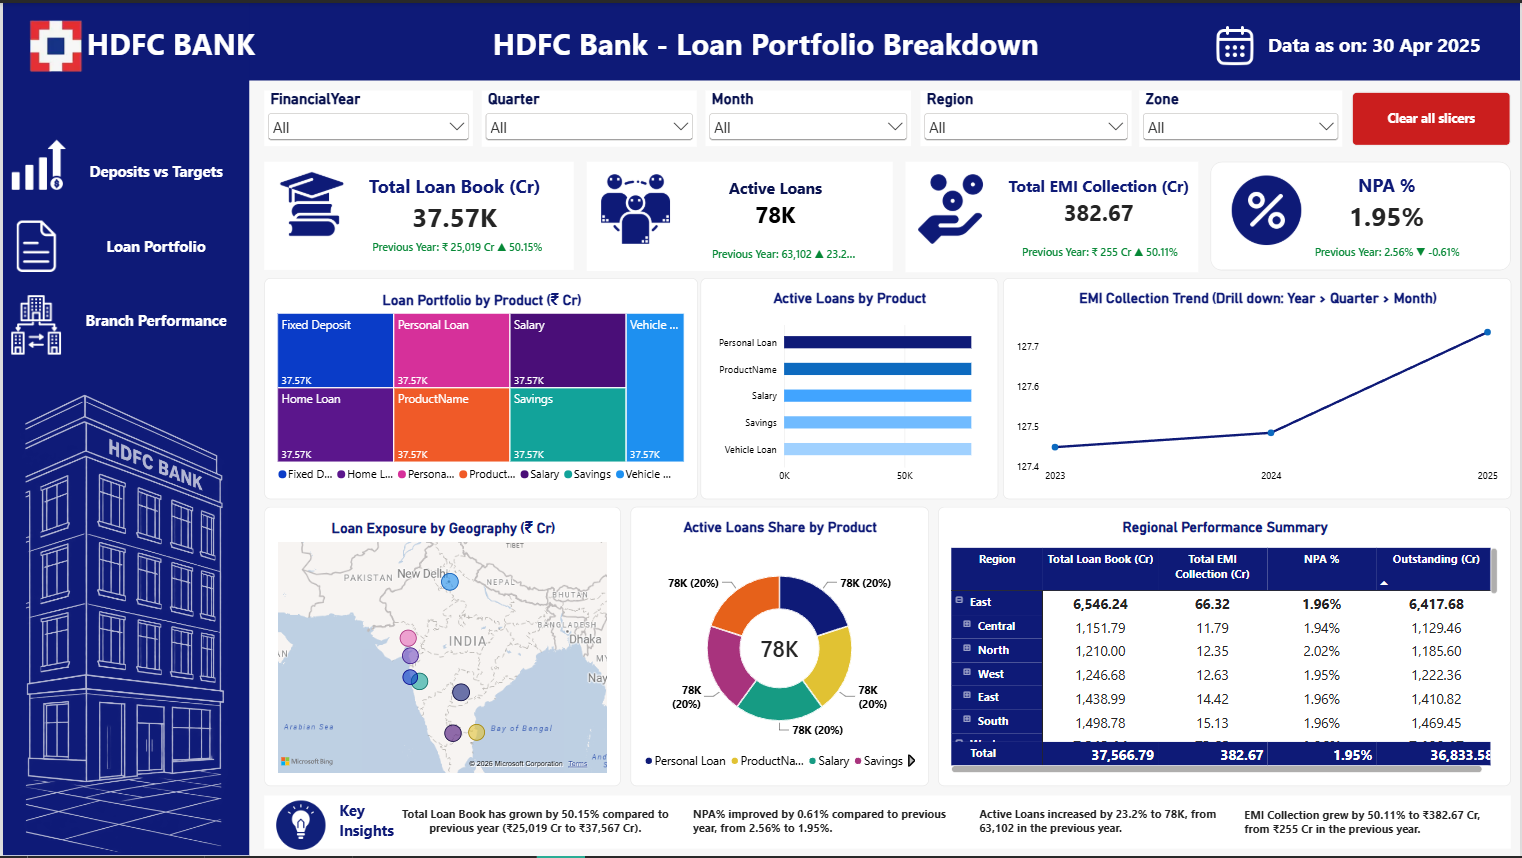

The page's visual inventory and layout, read from the dashboard file:
{"tool":"powerbi","page":{"name":"Loan Portfolio","canvas":[1920,1080],"ordinal":1},"visuals":[{"type":"shape","box":[12.4,0,1907.6,98.1],"z":0},{"type":"shape","box":[0,0,311.6,1078.7],"z":1000},{"type":"image","box":[13,426.3,281.3,653.6],"z":2000},{"type":"group","id":"g1","title":"Group 1","box":[10,0,335,110],"z":3000},{"type":"image","box":[10,0,118,110],"z":3000,"group":"g1"},{"type":"textbox","box":[105.7,25.1,239.3,59.7],"z":4000,"group":"g1"},{"type":"group","id":"g2","title":"Group 2","box":[3.2,170.8,292.6,275.2],"z":4000},{"type":"group","id":"g3","title":"Group 3","box":[1516.9,25.3,379.6,60.1],"z":5000},{"type":"image","box":[1516.9,25.3,83.8,60.1],"z":6000,"group":"g3"},{"type":"slicer","fields":{"Values":["DimDate.Year"]},"box":[330,111,264,70],"z":6000},{"type":"textbox","box":[1600.7,36.4,295.8,49],"z":7000,"group":"g3"},{"type":"slicer","fields":{"Values":["DimDate.Month"]},"box":[889,111,260,70],"z":7000},{"type":"slicer","fields":{"Values":["DimBranch.Region"]},"box":[1161,111,267,70],"z":8000},{"type":"image","box":[9.5,170.8,71.2,68],"z":8000,"group":"g2"},{"type":"slicer","fields":{"Values":["DimBranch.Zone"]},"box":[1438,110,257,71],"z":9000},{"type":"image","box":[3.2,368.5,77.5,77.5],"z":9000,"group":"g2"},{"type":"slicer","fields":{"Values":["DimDate.Quarter"]},"box":[606,111,272,71],"z":10000},{"type":"image","box":[12.7,275.2,79.1,69.6],"z":10000,"group":"g2"},{"type":"textbox","box":[567.7,25.3,784.5,60.1],"z":11000},{"type":"pageNavigator","box":[91.8,170.8,204,275.2],"z":11000,"group":"g2"},{"type":"shape","box":[1528.3,201.7,380.1,137.5],"z":12000},{"type":"shape","box":[738,201.8,387.3,138.2],"z":12000,"group":"g6"},{"type":"shape","box":[1142,201.8,370.5,139.9],"z":13000,"group":"g4"},{"type":"image","box":[1554.9,217.6,88,87.7],"z":13000},{"type":"cardVisual","fields":{"Data":["BranchDepositTargets.NPA Subtitle"]},"box":[1614.9,282.4,273.4,64.8],"z":14000},{"type":"cardVisual","fields":{"Data":["BranchDepositTargets.NPA %"]},"box":[1671.6,212.6,158.4,83.1],"z":15000},{"type":"group","id":"g4","title":"Group 6","box":[330,201.2,1218.8,160],"z":16000},{"type":"treemap","title":"Loan Portfolio by Product (₹ Cr)","fields":{"Group":["DimProduct.Column2"],"Values":["BranchDepositTargets.Total Loan Book (Cr)"]},"box":[330,348.7,548.7,280],"z":17000},{"type":"clusteredBarChart","title":"Active Loans by Product","fields":{"Category":["DimProduct.Column2"],"Y":["BranchDepositTargets.Active Loans"]},"box":[883.3,348.7,376.7,280],"z":18000},{"type":"lineChart","title":"EMI Collection Trend (Drill down: Year > Quarter > Month)","fields":{"Category":["DimDate.Date.Variation.Date Hierarchy.Year","DimDate.Date.Variation.Date Hierarchy.Quarter","DimDate.Date.Variation.Date Hierarchy.Month","DimDate.Date.Variation.Date Hierarchy.Day"],"Y":["BranchDepositTargets.Total EMI Collection (Cr)"]},"box":[1265,348.3,643.3,280],"z":19000},{"type":"shape","box":[330,201.2,391.6,137.1],"z":20000,"group":"g5"},{"type":"map","title":"Loan Exposure by Geography (₹ Cr)","fields":{"Category":["DimBranch.City"],"Size":["BranchDepositTargets.Total Loan Book (Cr)"]},"box":[330,637.5,451.2,353.8],"z":20000},{"type":"donutChart","title":"Active Loans Share by Product","fields":{"Category":["DimProduct.Column2"],"Y":["BranchDepositTargets.Active Loans"]},"box":[793.8,637.5,377.5,353.8],"z":21000},{"type":"cardVisual","fields":{"Data":["BranchDepositTargets.Total Loan Book (Cr)"]},"box":[434.6,217.1,273.7,75.7],"z":21500,"group":"g5"},{"type":"cardVisual","fields":{"Data":["BranchDepositTargets.Loan Book Subtitle"]},"box":[440.3,281.9,267.6,55.8],"z":22000,"group":"g5"},{"type":"shape","box":[330,1002.5,1577.5,67.5],"z":22000},{"type":"image","box":[346.1,211.2,88.5,87.6],"z":22500,"group":"g5"},{"type":"pivotTable","title":"Regional Performance Summary","fields":{"Rows":["DimBranch.Region","DimBranch.Zone","DimBranch.BranchName"],"Values":["BranchDepositTargets.Total Loan Book (Cr)","BranchDepositTargets.Total EMI Collection (Cr)","BranchDepositTargets.NPA %","BranchDepositTargets.Outstanding (Cr)"]},"box":[1183.8,637.5,725,353.8],"z":23000},{"type":"image","box":[755.6,217.1,88.5,87.6],"z":23002,"group":"g6"},{"type":"cardVisual","fields":{"Data":["BranchDepositTargets.Active Loans"]},"box":[848.8,214.9,256.9,77.8],"z":23502,"group":"g6"},{"type":"textbox","box":[425,1008.8,75,61.2],"z":24000},{"type":"cardVisual","fields":{"Data":["BranchDepositTargets.Active Loans Subtitle"]},"box":[879.7,273.6,215.3,87.6],"z":24002,"group":"g6"},{"type":"image","box":[1154.7,217.1,88.5,87.6],"z":24504,"group":"g4"},{"type":"image","box":[336.2,1008.8,80,62.5],"z":25000},{"type":"cardVisual","fields":{"Data":["BranchDepositTargets.Total EMI Collection (Cr)"]},"box":[1238.5,217.1,296.8,69.7],"z":25004,"group":"g4"},{"type":"cardVisual","fields":{"Data":["BranchDepositTargets.EMI Collection Subtitle"]},"box":[1226.8,280.2,322,68],"z":25504,"group":"g4"},{"type":"textbox","box":[500,1016.2,347.5,46.2],"z":26000},{"type":"textbox","box":[1571.2,1017.5,317.5,62.5],"z":27000},{"type":"group","id":"g5","title":"Group 4","box":[330,201.2,391.6,137.1],"z":27008,"group":"g6"},{"type":"group","id":"g6","title":"Group 5","box":[330,201.2,795.2,160],"z":27009,"group":"g4"},{"type":"textbox","box":[1235,1016.2,300,61.2],"z":28000},{"type":"textbox","box":[873.8,1016.2,345,46.2],"z":29000},{"type":"actionButton","box":[1706.7,112,201.3,68.7],"z":29001}]}

Visuals, with their boxes in screenshot pixels (x1, y1, x2, y2), scaled from the page's 1920x1080 canvas onto the 1522x858 screenshot:
shape: 10,0,1521,78
shape: 0,0,247,857
image: 10,339,233,857
"Group 1" group: 8,0,273,87
image: 8,0,101,87
textbox: 84,20,273,67
"Group 2" group: 3,136,234,354
"Group 3" group: 1202,20,1503,68
image: 1202,20,1269,68
slicer - DimDate.Year: 262,88,471,144
textbox: 1269,29,1503,68
slicer - DimDate.Month: 705,88,911,144
slicer - DimBranch.Region: 920,88,1132,144
image: 8,136,64,190
slicer - DimBranch.Zone: 1140,87,1344,144
image: 3,293,64,354
slicer - DimDate.Quarter: 480,88,696,145
image: 10,219,73,274
textbox: 450,20,1072,68
pageNavigator: 73,136,234,354
shape: 1211,160,1513,269
shape: 585,160,892,270
shape: 905,160,1199,271
image: 1233,173,1302,243
cardVisual - BranchDepositTargets.NPA Subtitle: 1280,224,1497,276
cardVisual - BranchDepositTargets.NPA %: 1325,169,1451,235
"Group 6" group: 262,160,1228,287
"Loan Portfolio by Product (₹ Cr)" treemap: 262,277,697,499
"Active Loans by Product" clusteredBarChart: 700,277,999,499
"EMI Collection Trend (Drill down: Year > Quarter > Month)" lineChart: 1003,277,1513,499
shape: 262,160,572,269
"Loan Exposure by Geography (₹ Cr)" map: 262,506,619,788
"Active Loans Share by Product" donutChart: 629,506,928,788
cardVisual - BranchDepositTargets.Total Loan Book (Cr): 345,172,561,233
cardVisual - BranchDepositTargets.Loan Book Subtitle: 349,224,561,268
shape: 262,796,1512,850
image: 274,168,345,237
"Regional Performance Summary" pivotTable: 938,506,1513,788
image: 599,172,669,242
cardVisual - BranchDepositTargets.Active Loans: 673,171,876,233
textbox: 337,801,396,850
cardVisual - BranchDepositTargets.Active Loans Subtitle: 697,217,868,287
image: 915,172,985,242
image: 267,801,330,851
cardVisual - BranchDepositTargets.Total EMI Collection (Cr): 982,172,1217,228
cardVisual - BranchDepositTargets.EMI Collection Subtitle: 972,223,1228,277
textbox: 396,807,672,844
textbox: 1246,808,1497,857
"Group 4" group: 262,160,572,269
"Group 5" group: 262,160,892,287
textbox: 979,807,1217,856
textbox: 693,807,966,844
actionButton: 1353,89,1512,144
